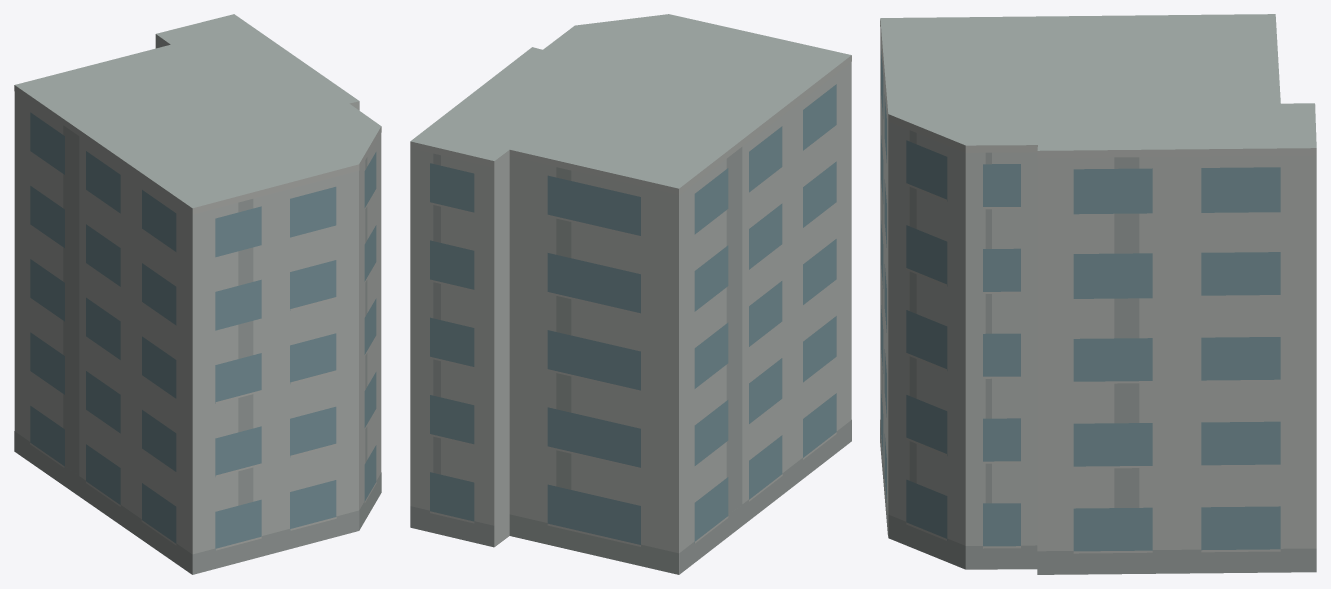
The model's file is survey-upis-32881461.glb.
3 renders of one model, left to right at view 1: azimuth 30°, elevation 25°; view 2: azimuth 150°, elevation 25°; view 3: azimuth 270°, elevation 25°, orthographic. The views are drawn at different scales.
Parts seen in each view (by area): view 1: survey-upis-32881461.tmp; view 2: survey-upis-32881461.tmp; view 3: survey-upis-32881461.tmp.
Boxes of the visible parts, <box> form: survey-upis-32881461.tmp: <box>14,14,381,574</box>; survey-upis-32881461.tmp: <box>410,14,851,574</box>; survey-upis-32881461.tmp: <box>880,14,1316,574</box>.
Size of the model in its own units: 9.7 by 14 by 13.07.
